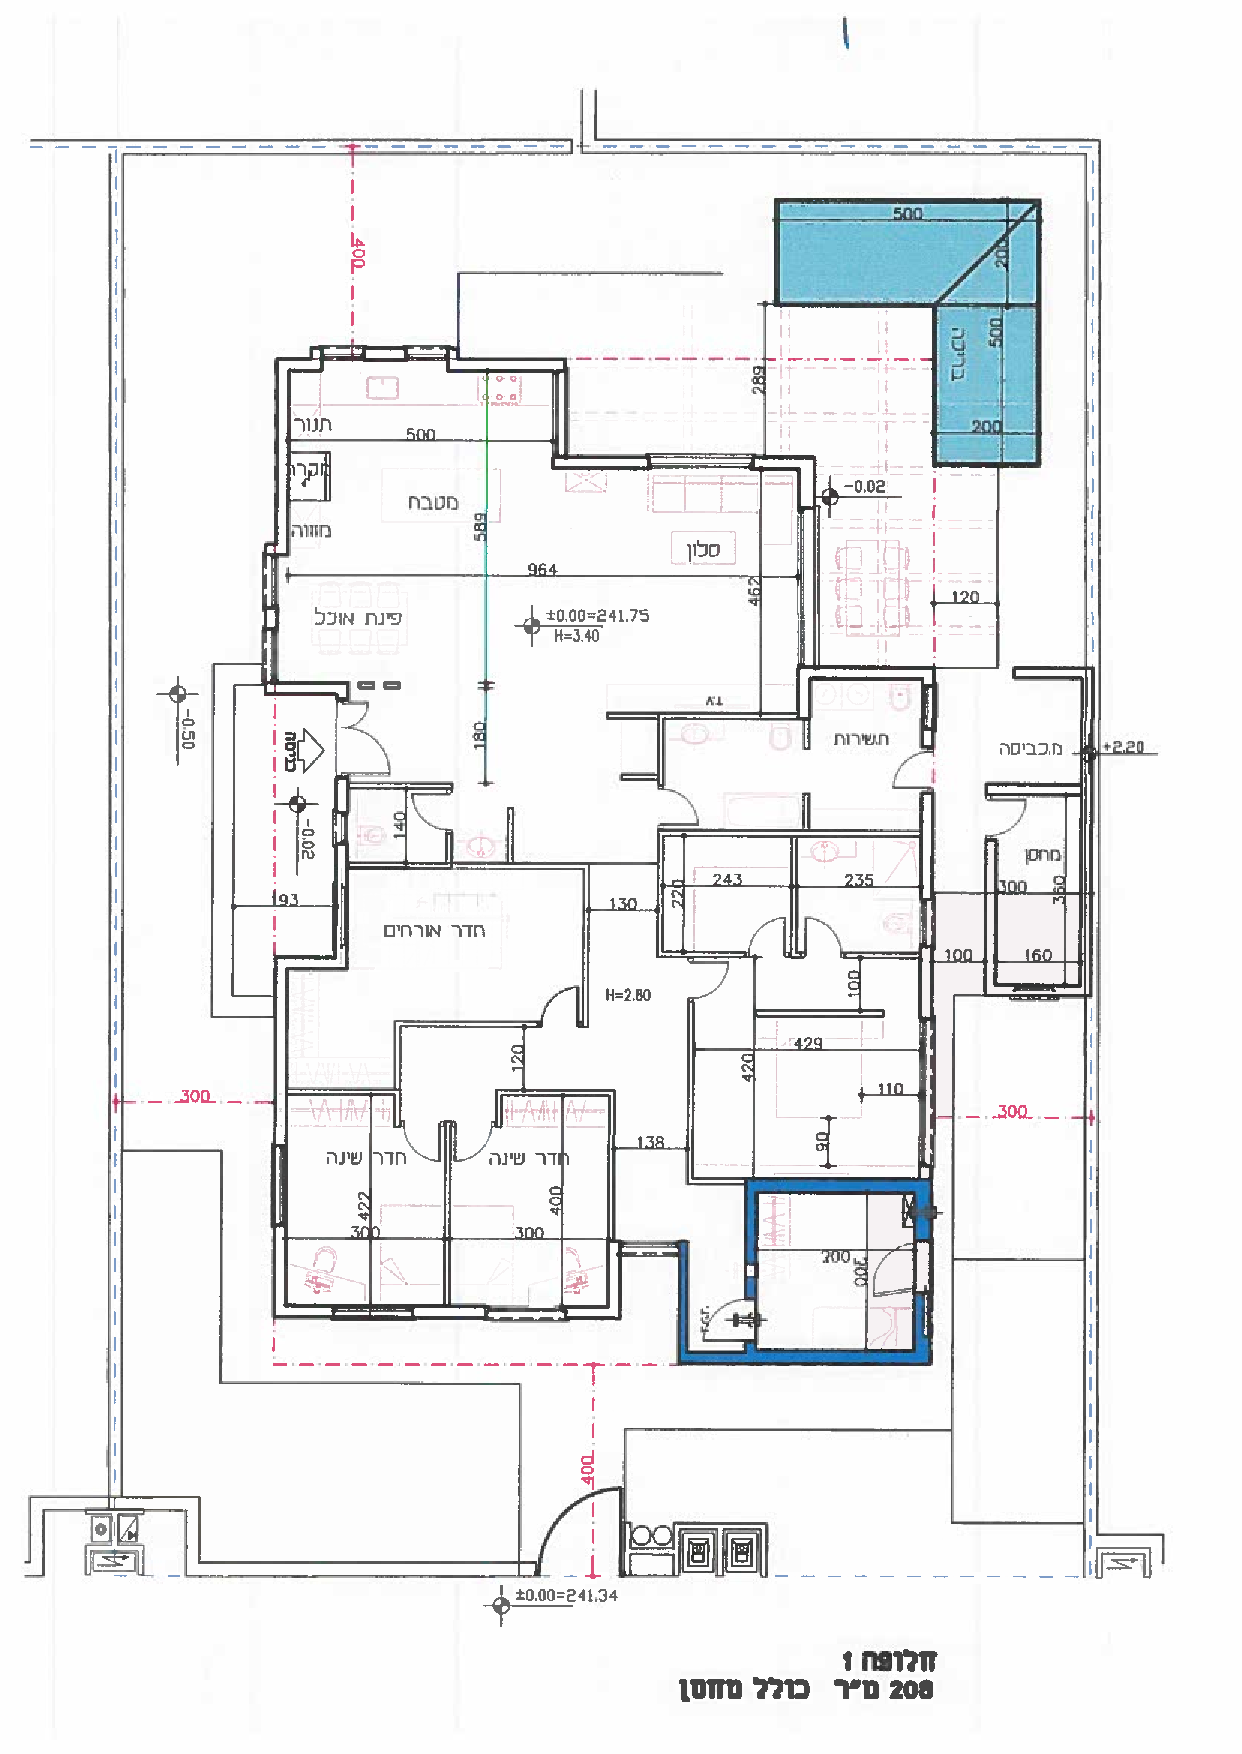door: (349, 695, 403, 781), (745, 909, 789, 950), (801, 909, 845, 950), (993, 797, 1039, 837), (882, 751, 927, 792), (536, 983, 581, 1023), (410, 792, 448, 837), (667, 782, 704, 828)
